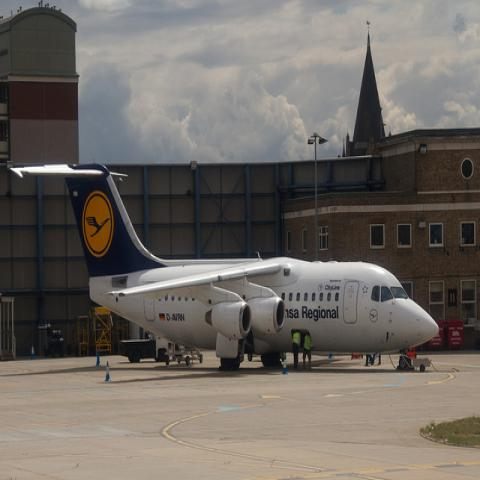truck: (118, 334, 168, 363)
